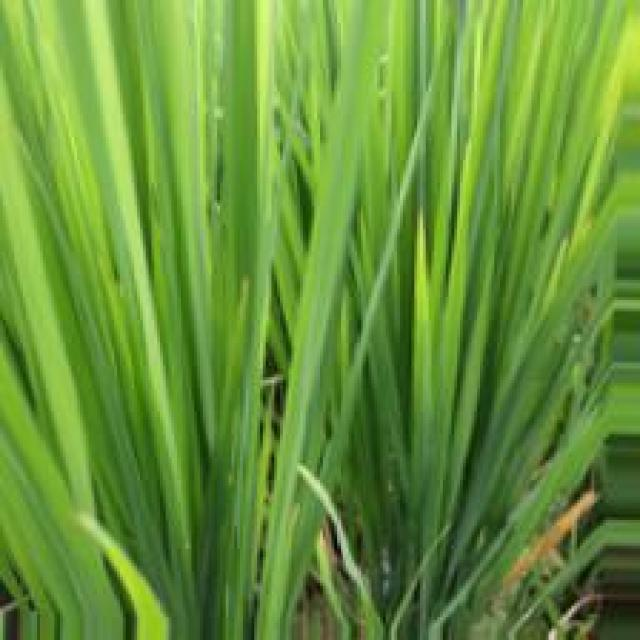HealthyLeaf: (486, 50, 562, 236), (64, 138, 118, 374)
